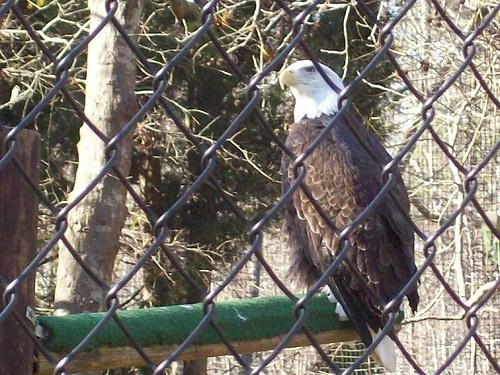bird: (280, 59, 422, 371)
